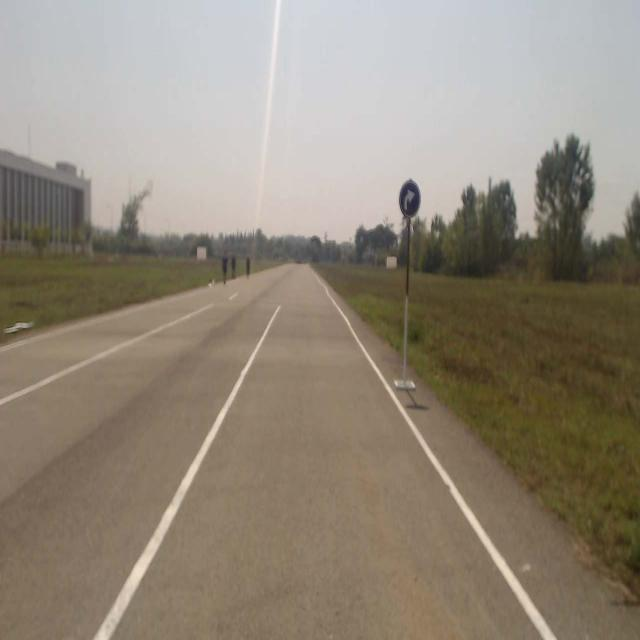sag: (399, 179, 421, 217)
